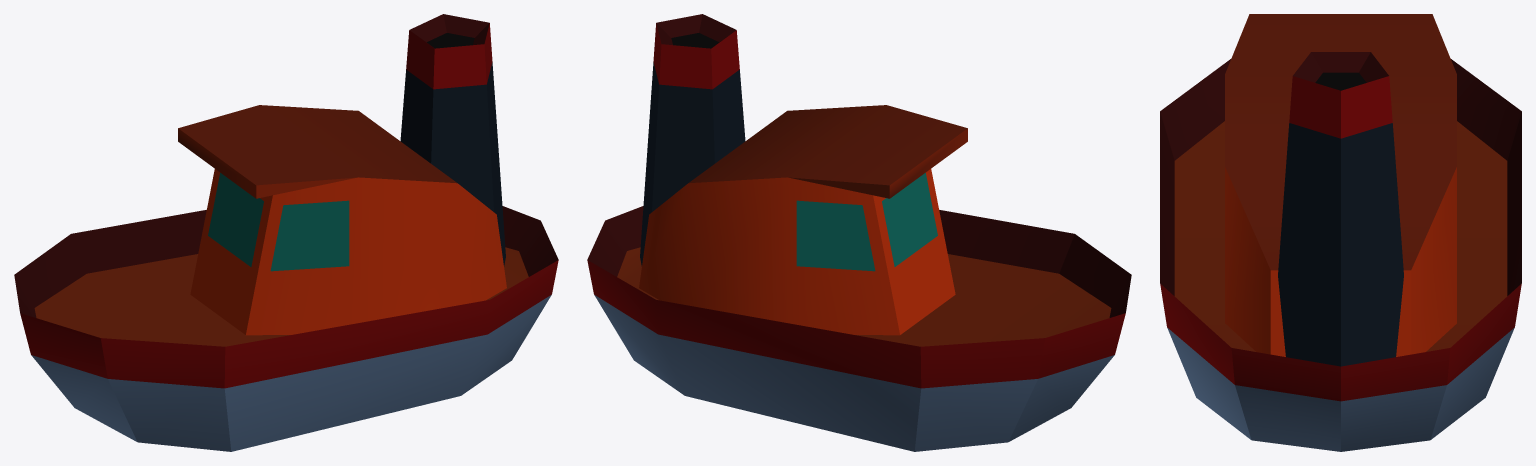
Rendered from boat.FBX.
The picture shows the model from 3 angles, left to right: view 1: azimuth 30°, elevation 25°; view 2: azimuth 150°, elevation 25°; view 3: azimuth 270°, elevation 25°; orthographic projection. The views are drawn at different scales.
Parts seen in each view (by area): view 1: Box002; view 2: Box002; view 3: Box002.
Part boxes in pixels (bbox=[...]): Box002: bbox=[14, 14, 558, 451]; Box002: bbox=[587, 14, 1131, 451]; Box002: bbox=[1160, 14, 1521, 451].
Bounding box in the file's own units: 85.68 × 48.09 × 43.96.
